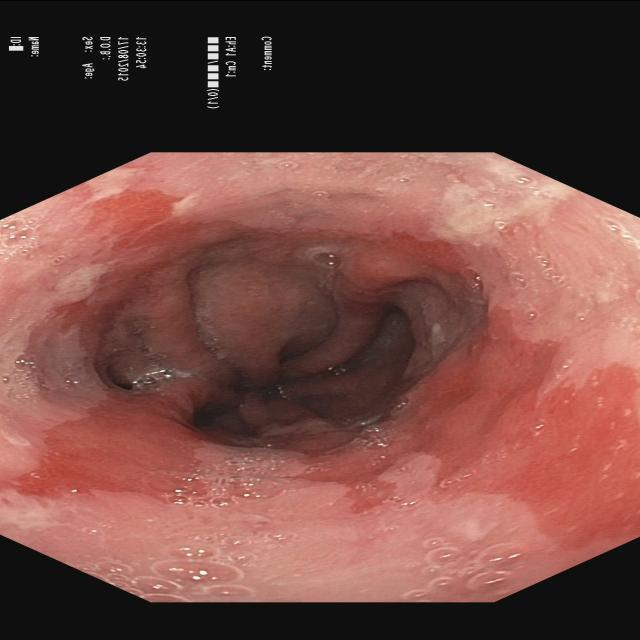esophagitis: (0, 149, 640, 565)
